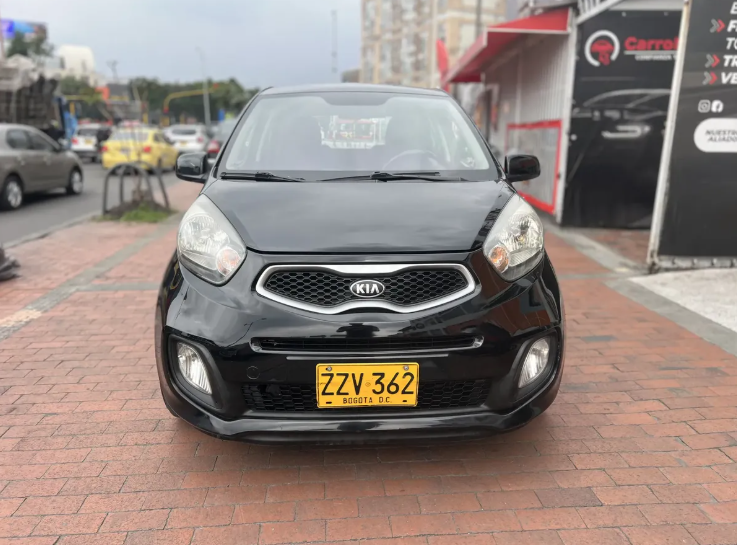placa: (315, 365, 420, 407)
